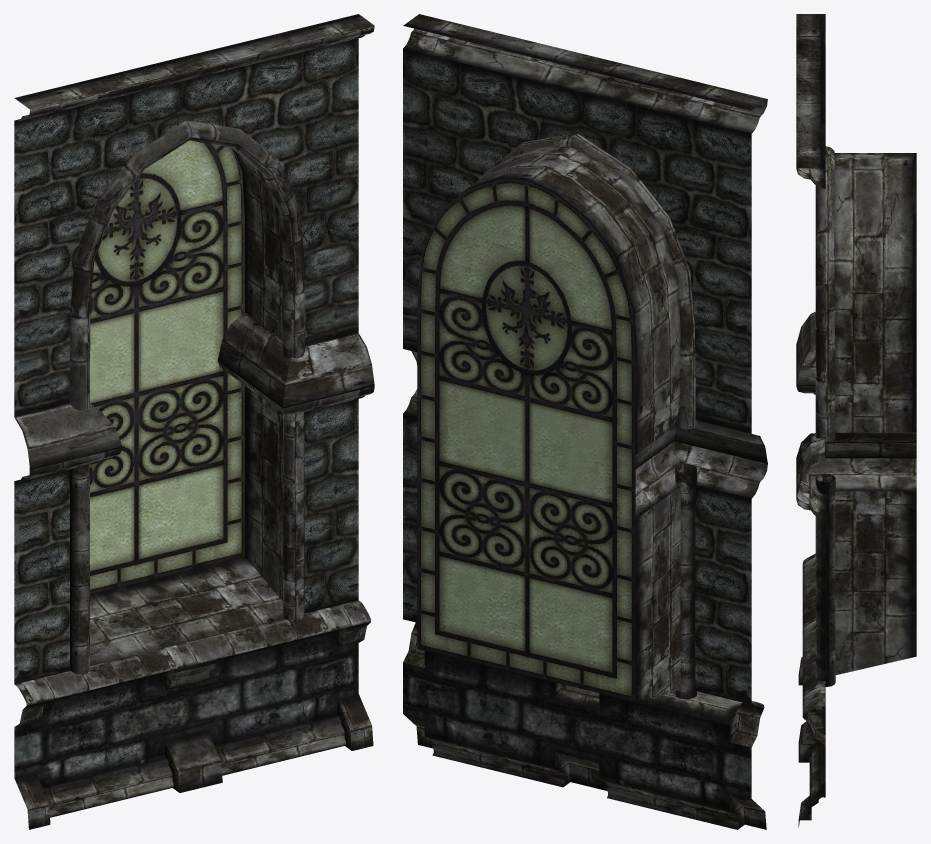
Rendered from window_large_yellow.dae.
3 views of the same model, side by side, from view 1: azimuth 30°, elevation 25°; view 2: azimuth 150°, elevation 25°; view 3: azimuth 270°, elevation 25° (orthographic). The views are drawn at different scales.
Visible parts, largest first — view 1: polySurface145, polySurface134, polySurface158, polySurface159, polySurface140, polySurface141, polySurface139, polySurface143, polySurface142, polySurface149; view 2: polySurface134, polySurface145, polySurface158, polySurface159, polySurface139, polySurface140, polySurface141, polySurface142, polySurface147; view 3: polySurface139, polySurface140, polySurface145, polySurface158, polySurface141, polySurface143, polySurface150, polySurface149, polySurface148.
Boxes of the visible parts, left/top/right/bottom form: polySurface145: left=14, top=14, right=374, bottom=470; polySurface134: left=90, top=140, right=244, bottom=594; polySurface158: left=14, top=386, right=374, bottom=829; polySurface159: left=14, top=631, right=358, bottom=787; polySurface140: left=29, top=385, right=284, bottom=665; polySurface141: left=69, top=120, right=304, bottom=410; polySurface139: left=234, top=150, right=282, bottom=339; polySurface143: left=283, top=412, right=304, bottom=621; polySurface142: left=70, top=464, right=89, bottom=674; polySurface149: left=217, top=312, right=291, bottom=408; polySurface134: left=417, top=179, right=635, bottom=701; polySurface145: left=403, top=14, right=767, bottom=463; polySurface158: left=403, top=389, right=767, bottom=829; polySurface159: left=403, top=651, right=751, bottom=810; polySurface139: left=466, top=146, right=680, bottom=454; polySurface140: left=635, top=487, right=680, bottom=701; polySurface141: left=482, top=133, right=696, bottom=429; polySurface142: left=675, top=464, right=696, bottom=699; polySurface147: left=635, top=441, right=680, bottom=518; polySurface139: left=833, top=153, right=916, bottom=432; polySurface140: left=835, top=491, right=916, bottom=675; polySurface145: left=796, top=14, right=825, bottom=497; polySurface158: left=796, top=473, right=825, bottom=827; polySurface141: left=815, top=146, right=835, bottom=442; polySurface143: left=815, top=473, right=835, bottom=686; polySurface150: left=807, top=458, right=916, bottom=491; polySurface149: left=825, top=432, right=916, bottom=458; polySurface148: left=796, top=345, right=815, bottom=386.
Bounding box in the file's own units: 4 × 8 × 1.32.
